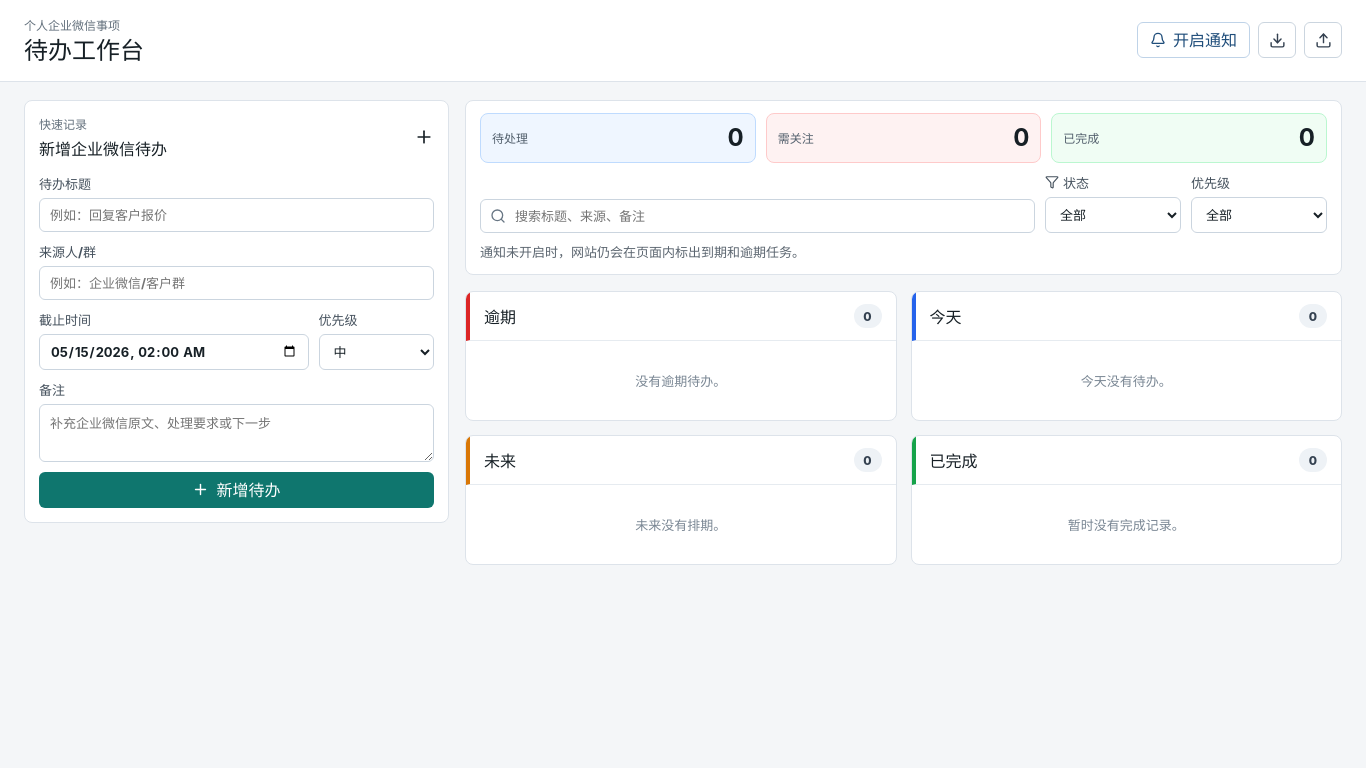
Test: App › adds a manual WeCom todo and places it in the today group
This screenshot has width=1366, height=768.
In the field labelled "待办标题": (236, 215) [39,198,434,232], type "回复客户报价"
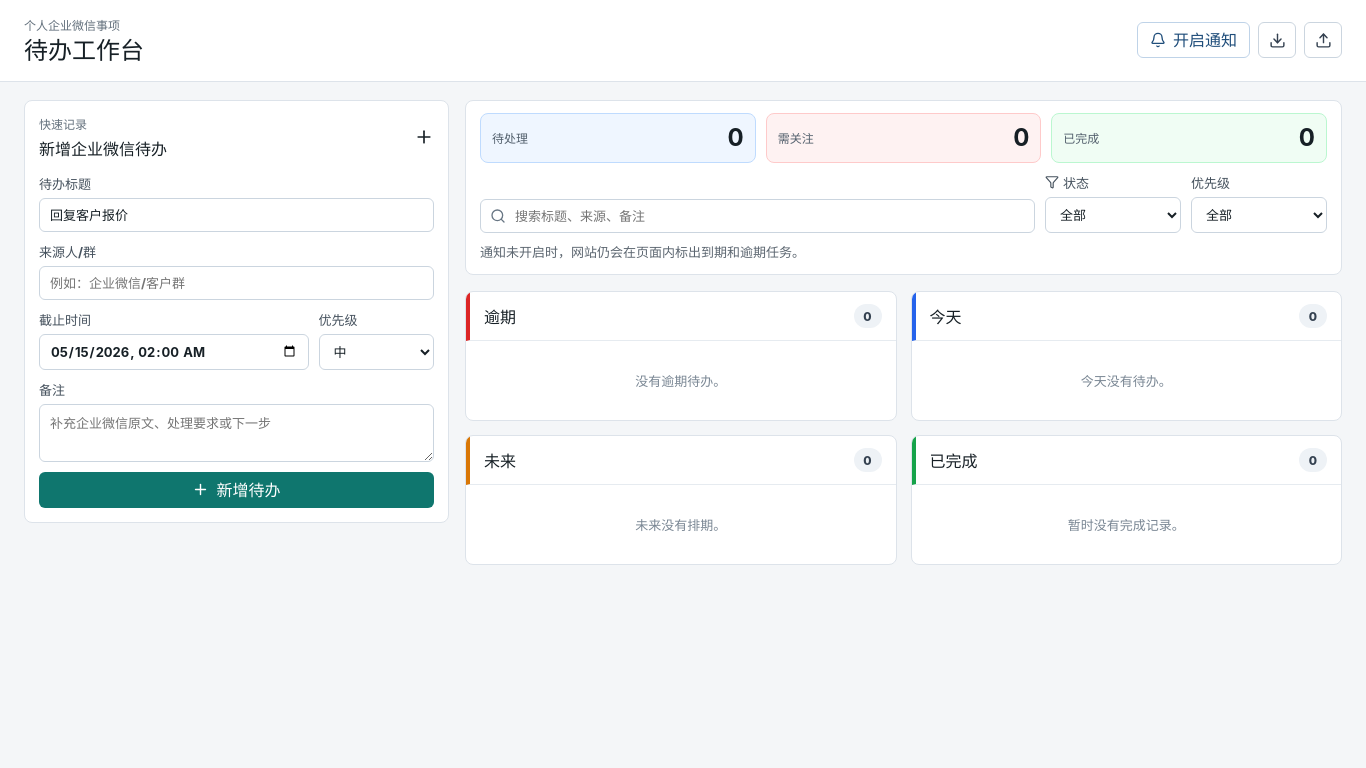
In the field labelled "来源人/群": (236, 283) [39,266,434,300], type "企业微信/客户群"
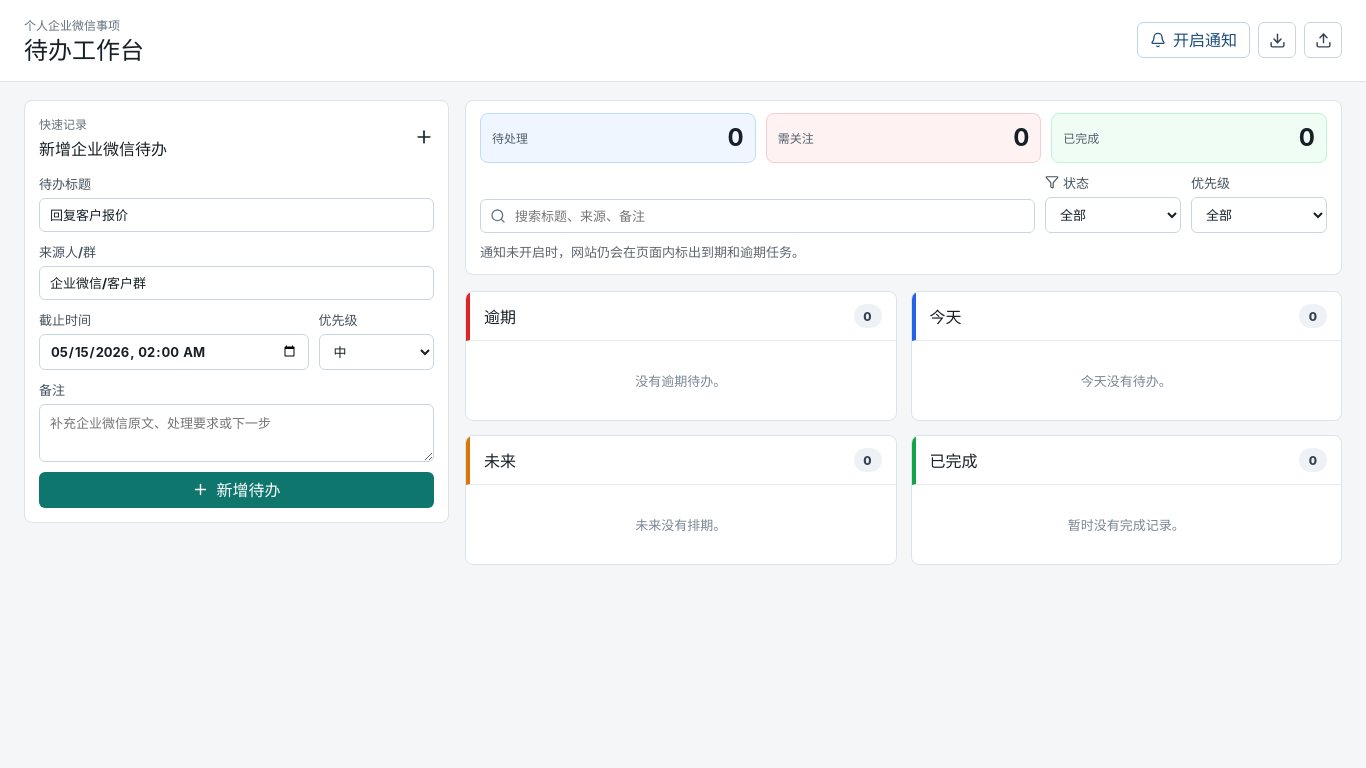
Replace the text in the field labelled "截止时间" with "2026-05-15T18:30": (174, 352) [39,334,308,370]
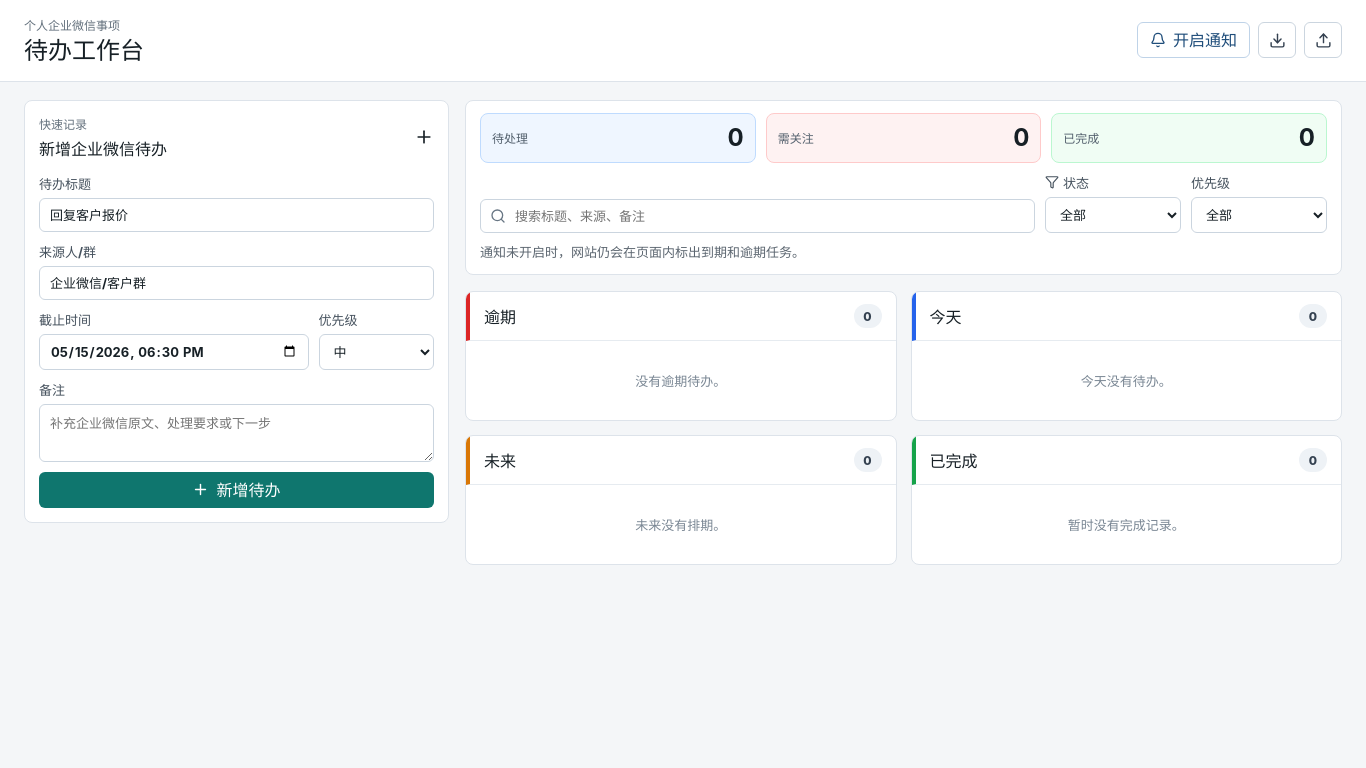
Click the button "新增待办": (236, 490) [39,472,434,508]
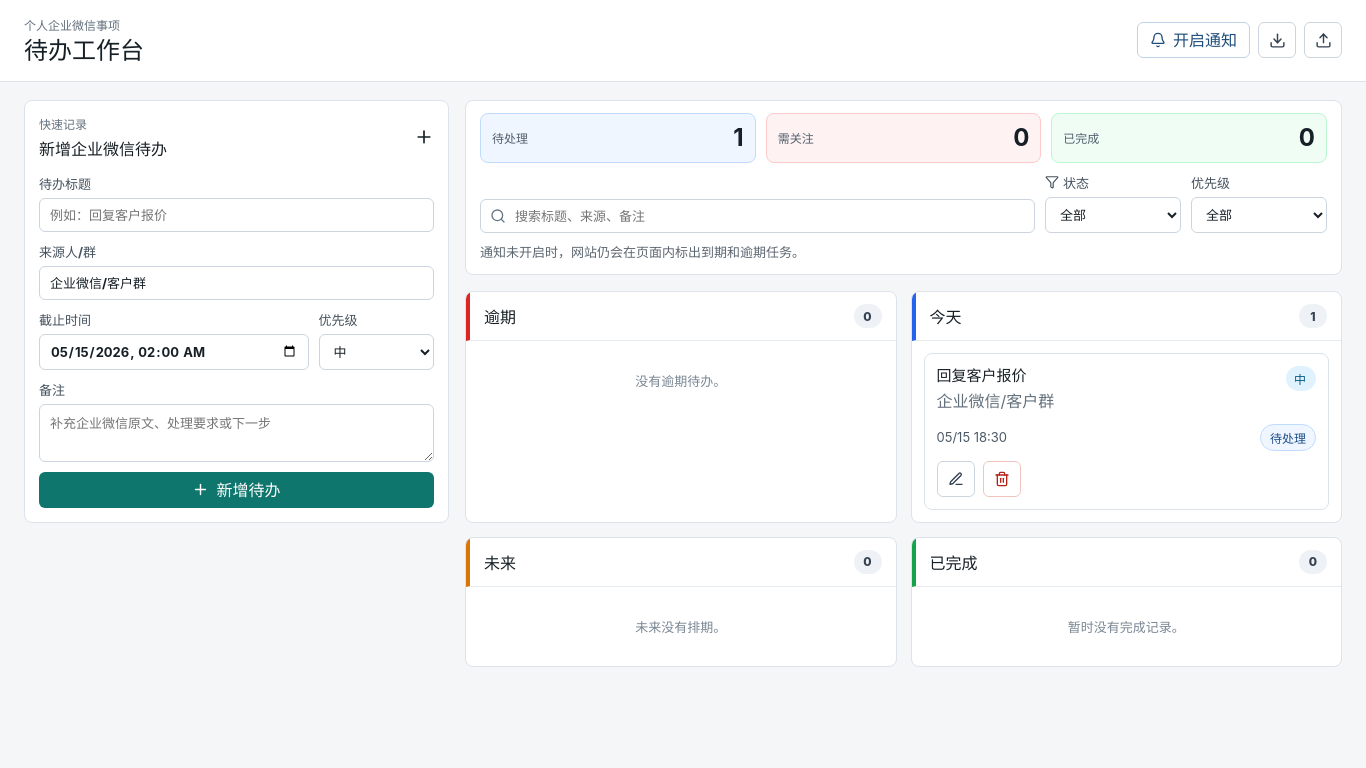
Result: the heading "回复客户报价" is shown at [936,366,1026,385]
Result: the text "企业微信/客户群" is shown at [936,390,1054,414]
